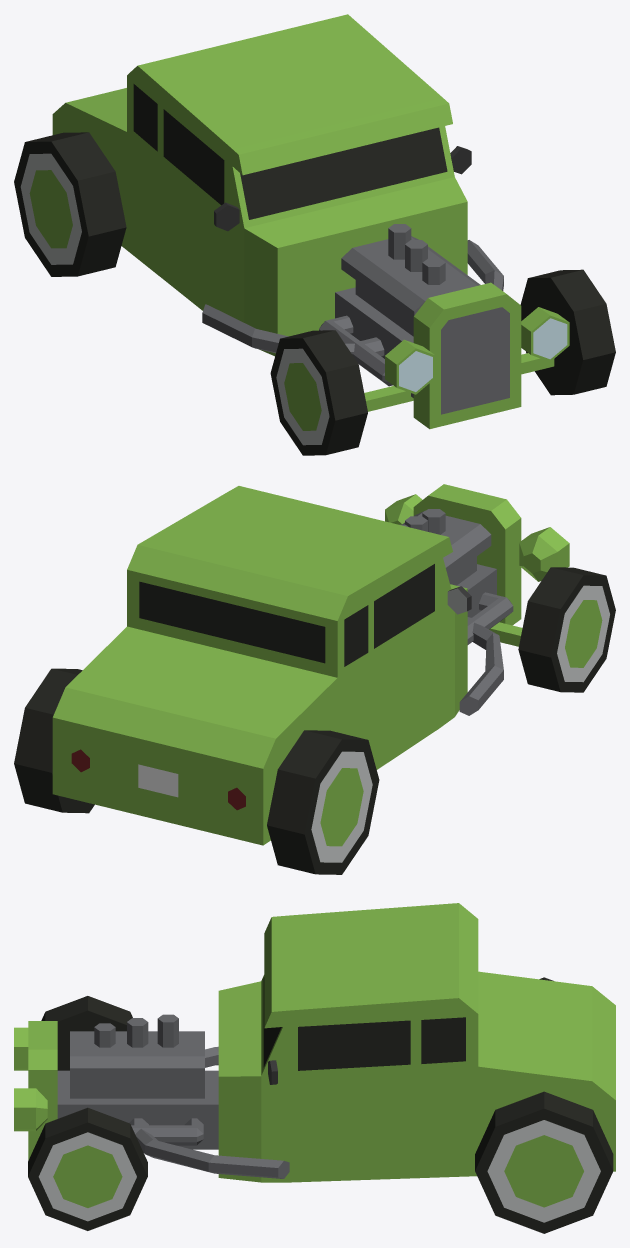
File: Veh_HotRod_Green.glb
The picture shows the model from 3 angles, top to bottom: view 1: azimuth 30°, elevation 25°; view 2: azimuth 150°, elevation 25°; view 3: azimuth 270°, elevation 25°; orthographic projection. The views are drawn at different scales.
Visible parts, largest first — view 1: HotRod_Green, Wheel_RR, Wheel_FR, Wheel_FL; view 2: HotRod_Green, Wheel_RR, Wheel_FR, Wheel_RL; view 3: HotRod_Green, Wheel_RL, Wheel_FL, Wheel_FR.
Boxes of the visible parts, <box> form: HotRod_Green: <box>52,14,569,429</box>; Wheel_RR: <box>14,132,126,276</box>; Wheel_FR: <box>270,330,367,455</box>; Wheel_FL: <box>520,269,615,395</box>; HotRod_Green: <box>52,484,569,845</box>; Wheel_RR: <box>267,730,379,874</box>; Wheel_FR: <box>518,567,615,692</box>; Wheel_RL: <box>14,668,94,813</box>; HotRod_Green: <box>14,903,615,1182</box>; Wheel_RL: <box>475,1091,613,1233</box>; Wheel_FL: <box>28,1107,147,1230</box>; Wheel_FR: <box>41,996,132,1070</box>.
Size of the model in its own units: 1.21 by 0.9391 by 2.35.
1 material, 1 textured.
